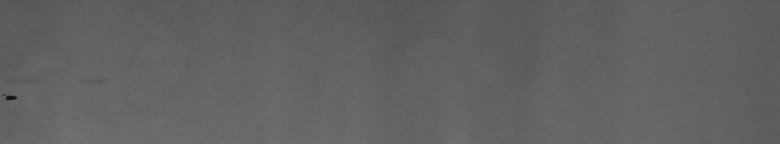fi: (4, 80, 103, 108)
